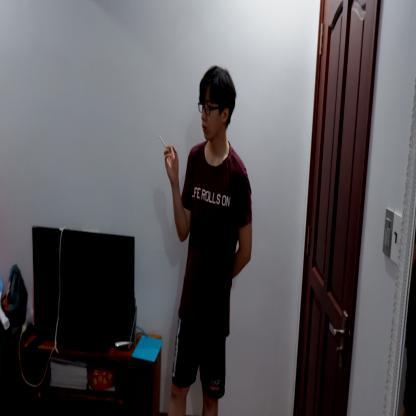cigarette: (158, 134, 168, 150)
person: (167, 63, 255, 415)
